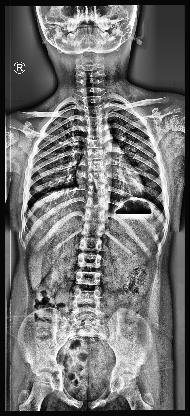Vertebrae: (68, 289, 105, 303), (73, 270, 105, 286), (74, 254, 108, 268), (76, 238, 108, 252), (80, 225, 107, 237), (83, 197, 109, 209), (82, 212, 110, 223), (86, 184, 108, 196), (80, 96, 106, 106), (84, 150, 108, 160), (86, 173, 108, 183), (86, 162, 108, 172), (84, 118, 106, 128), (84, 128, 105, 138), (83, 108, 107, 116), (86, 139, 105, 149)
